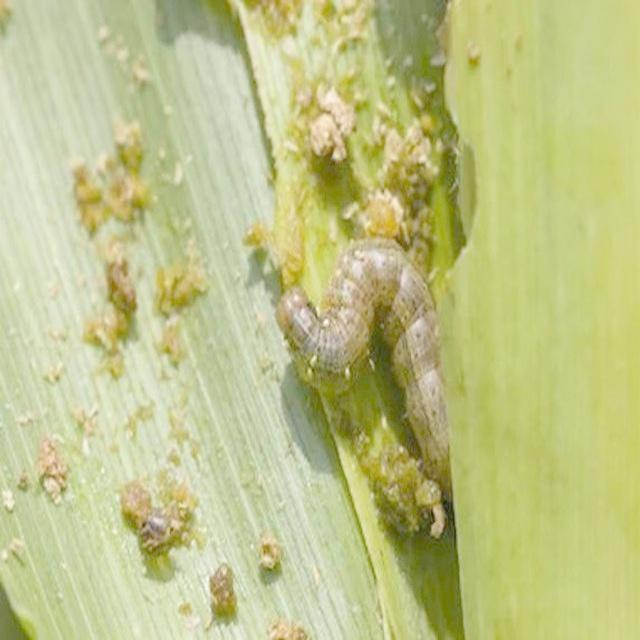gusano_cogollero: (280, 242, 457, 504)
